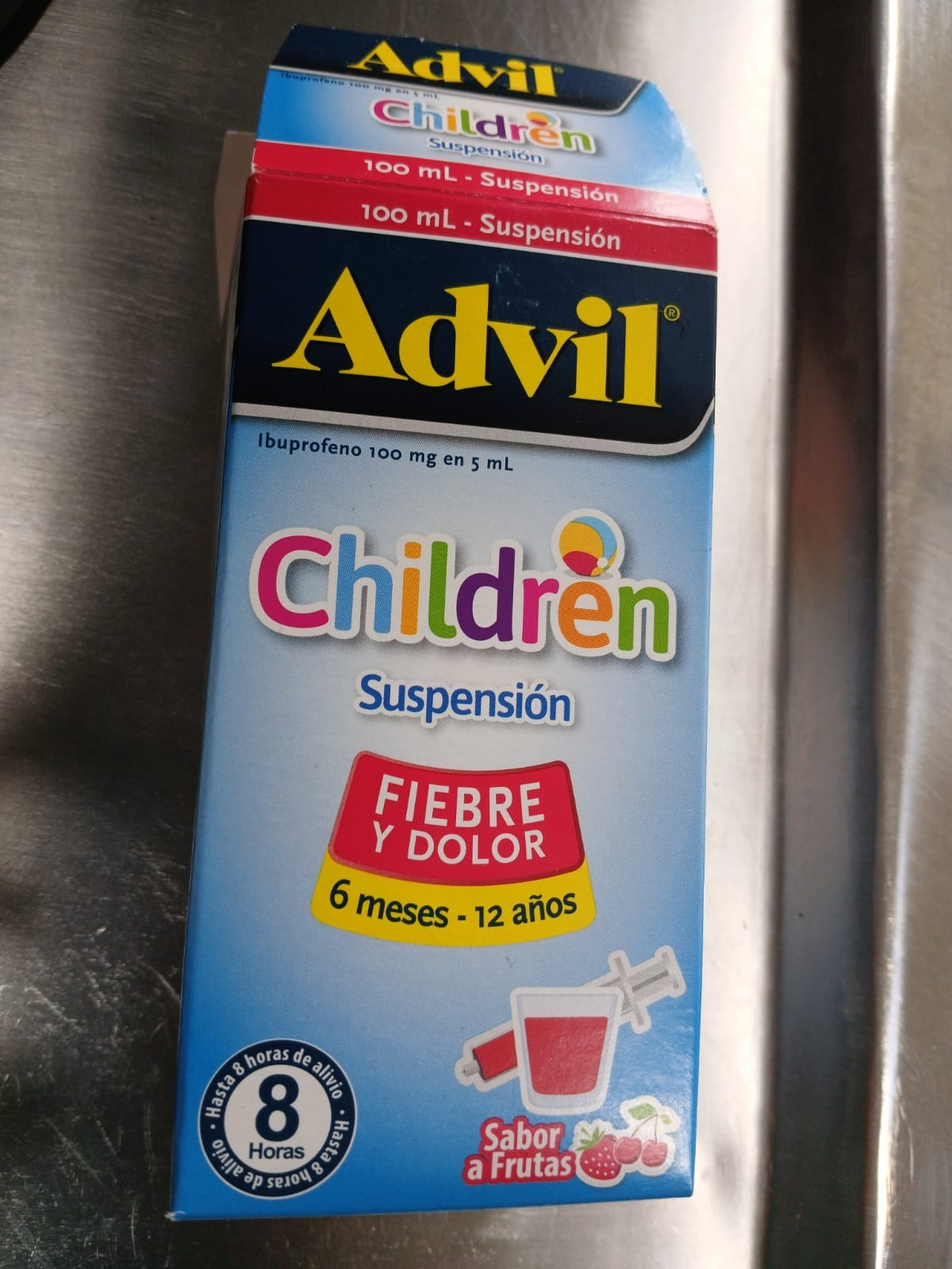Carton: (173, 19, 712, 1212)
